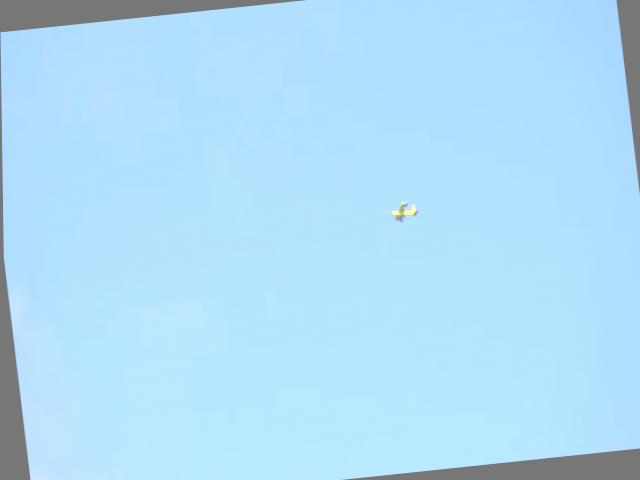plane: (389, 199, 418, 224)
